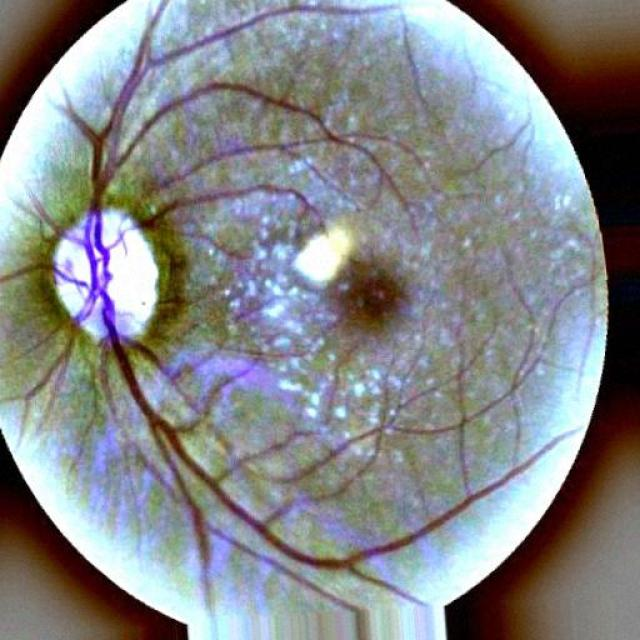Macula: (346, 267, 403, 323)
Nerves: (86, 6, 536, 598)
Optic Disk: (56, 211, 160, 349)
